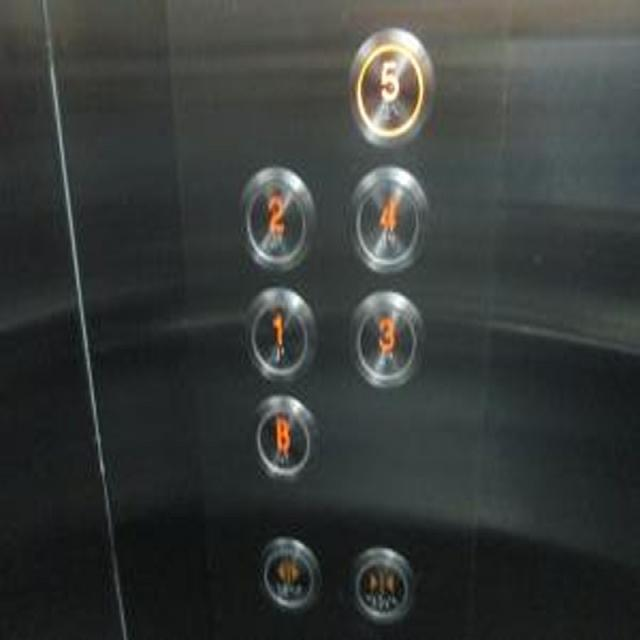1: (242, 284, 319, 384)
2: (235, 164, 318, 275)
3: (346, 285, 426, 392)
4: (344, 161, 430, 276)
5: (344, 25, 437, 151)
B: (248, 392, 323, 488)
close: (344, 542, 416, 626)
open: (254, 532, 324, 613)
